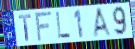1: (74, 9, 85, 39)
9: (111, 5, 128, 37)
A: (92, 6, 113, 38)
F: (34, 10, 53, 43)
L: (55, 11, 72, 40)
T: (18, 13, 32, 42)
